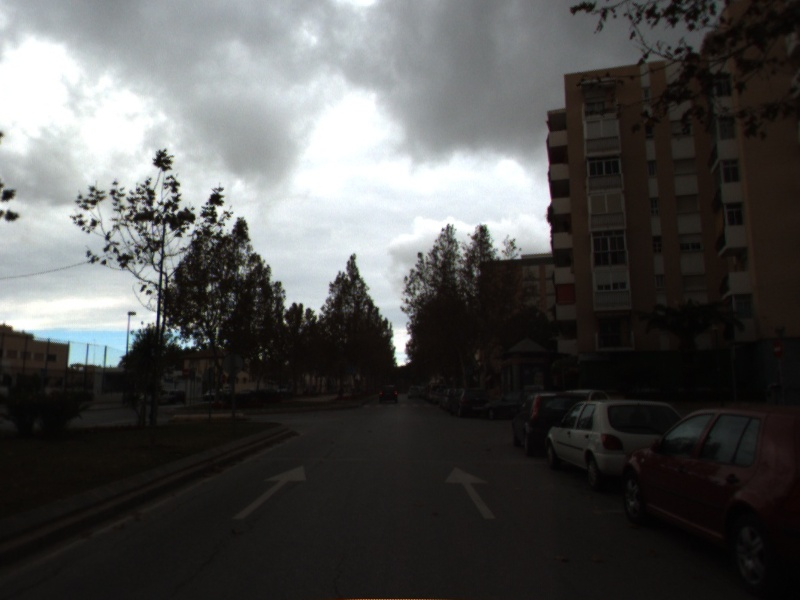STRAIGHT: (230, 462, 309, 522), (442, 464, 499, 522)
